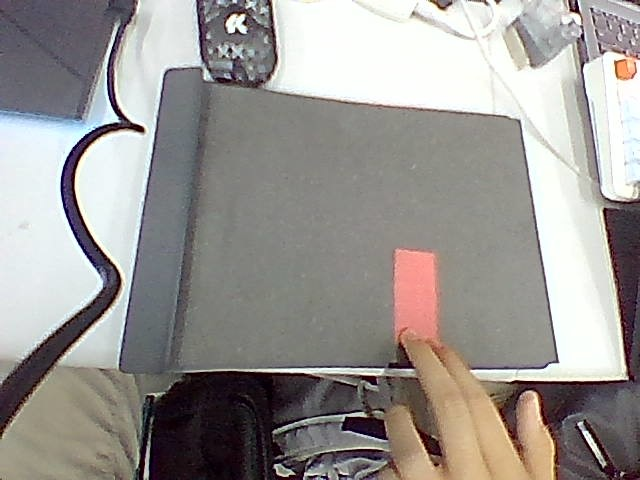card: (394, 249, 437, 339)
